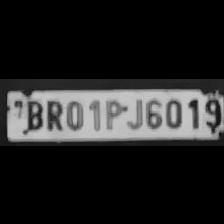0: (63, 97, 85, 130), (162, 96, 184, 128)
1: (85, 96, 103, 132), (184, 95, 202, 129)
6: (142, 95, 162, 129)
9: (202, 94, 222, 130)
B: (20, 97, 43, 131)
J: (124, 96, 142, 130)
P: (102, 96, 124, 130)
R: (42, 97, 64, 131)
